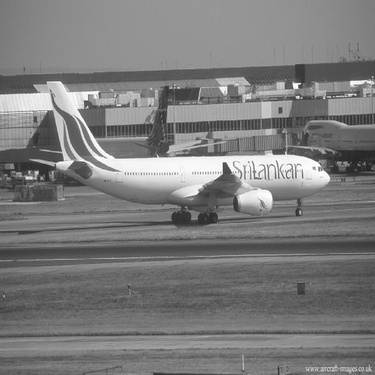airplane: (28, 65, 340, 223), (1, 76, 175, 168), (286, 113, 373, 166)
